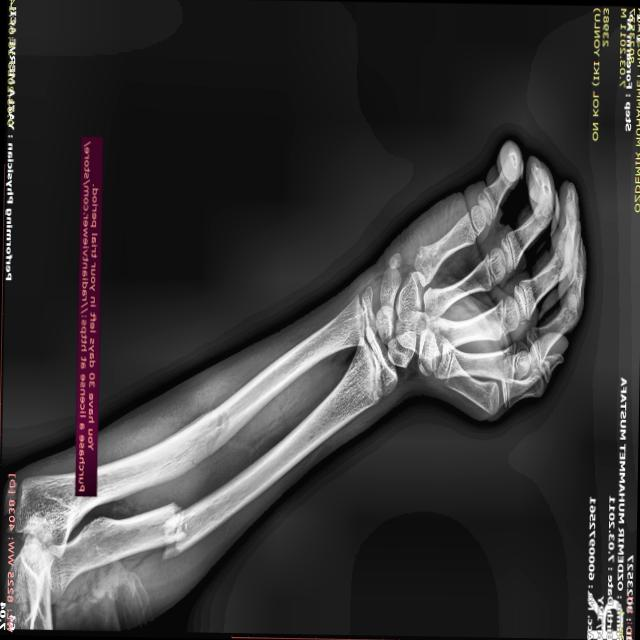Fracture: (152, 496, 188, 565), (200, 402, 227, 458)
